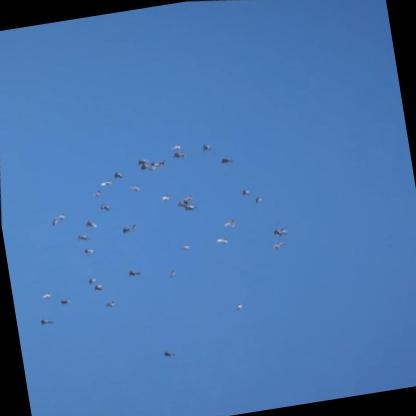bird: (123, 267, 142, 281), (269, 239, 288, 253), (271, 225, 290, 239), (170, 149, 189, 163), (125, 181, 144, 195), (220, 217, 238, 231), (95, 176, 113, 190), (81, 217, 99, 231), (160, 347, 179, 360), (36, 316, 55, 329), (212, 235, 230, 248), (218, 154, 236, 167), (164, 266, 180, 280), (84, 274, 100, 287), (198, 142, 214, 155), (182, 202, 199, 214), (231, 300, 246, 313), (91, 282, 107, 294), (134, 157, 151, 168), (110, 170, 127, 181), (50, 212, 67, 223), (181, 193, 195, 206), (90, 187, 104, 200), (146, 159, 160, 172), (38, 290, 53, 302), (178, 241, 193, 253), (75, 232, 90, 244), (58, 296, 74, 307), (80, 245, 94, 257), (101, 298, 116, 309), (239, 186, 252, 198), (158, 192, 171, 204), (137, 162, 150, 174), (98, 201, 111, 213), (168, 142, 183, 152), (174, 200, 186, 212), (158, 157, 169, 168), (119, 224, 130, 235), (130, 222, 140, 233), (252, 196, 263, 205), (48, 219, 58, 228)
